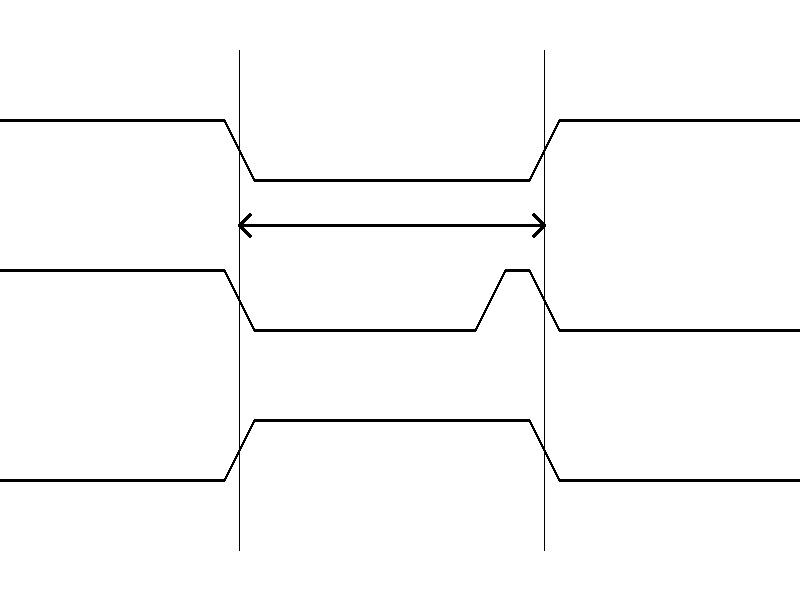double_arrow: (239, 210, 544, 240)
